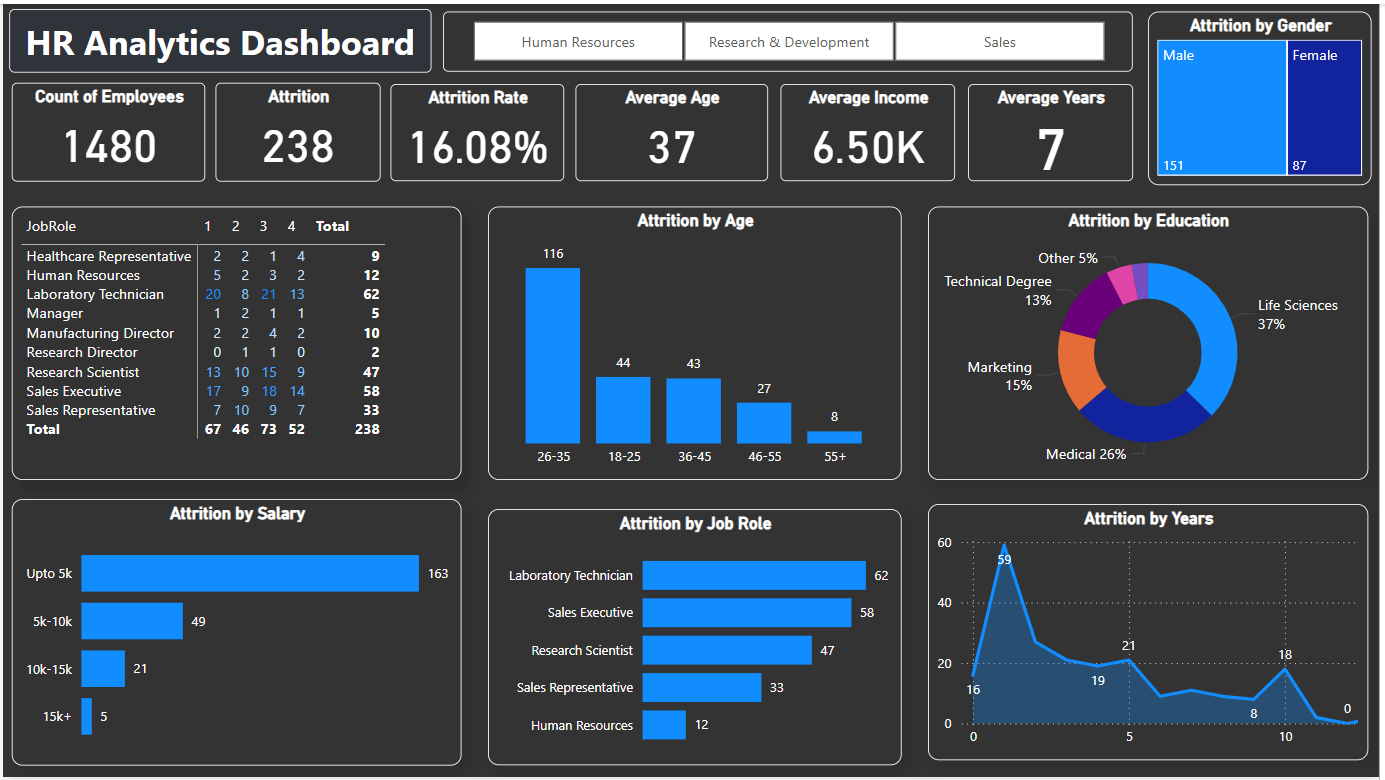

The page's visual inventory and layout, read from the dashboard file:
{"tool":"powerbi","page":{"name":"Page 1","canvas":[1280,720],"ordinal":0},"visuals":[{"type":"card","title":"Count of Employees","fields":{"Values":["HR_Analytics.CountOfEmpID"]},"box":[8.1,73.3,180.2,91.9],"z":0},{"type":"card","title":"Attrition","fields":{"Values":["HR_Analytics.TotalAttritionCount"]},"box":[197.7,73.3,153.5,91.9],"z":1000},{"type":"card","title":"Attrition Rate","fields":{"Values":["HR_Analytics.AttritionRate"]},"box":[360.5,74.4,161.6,90.7],"z":2000},{"type":"card","title":"Average Age","fields":{"Values":["HR_Analytics.AvgAge"]},"box":[532.6,74.4,179.1,90.7],"z":3000},{"type":"card","title":"Average Income","fields":{"Values":["HR_Analytics.AvgIncome"]},"box":[723.3,74.4,162.8,90.7],"z":4000},{"type":"card","title":"Average Years","fields":{"Values":["HR_Analytics.AvgYearsAtCompany"]},"box":[897.7,74.4,153.5,90.7],"z":5000},{"type":"treemap","title":"Attrition by Gender","fields":{"Group":["HR_Analytics.Gender"],"Values":["Sum(HR_Analytics.AttritionCount)"]},"box":[1065.1,7,208.1,161.6],"z":6000},{"type":"donutChart","title":"Attrition by Education","fields":{"Category":["HR_Analytics.EducationField"],"Y":["Sum(HR_Analytics.AttritionCount)"]},"box":[860.5,188.4,409.3,254.7],"z":7000},{"type":"textbox","box":[5.8,4.7,393,59.3],"z":7001},{"type":"columnChart","title":"Attrition by Age","fields":{"Category":["HR_Analytics.AgeGroup"],"Y":["Sum(HR_Analytics.AttritionCount)"]},"box":[451.2,188.4,384.9,254.7],"z":7002},{"type":"pivotTable","fields":{"Rows":["HR_Analytics.JobRole"],"Columns":["HR_Analytics.JobSatisfaction"],"Values":["Sum(HR_Analytics.AttritionCount)"]},"box":[8.1,188.4,418.6,254.7],"z":7003},{"type":"barChart","title":"Attrition by Salary","fields":{"Category":["HR_Analytics.SalarySlab"],"Y":["Sum(HR_Analytics.AttritionCount)"]},"box":[8.1,460.5,418.6,247.7],"z":7004},{"type":"areaChart","title":"Attrition by Years","fields":{"Category":["HR_Analytics.YearsAtCompany"],"Y":["Sum(HR_Analytics.AttritionCount)"]},"box":[860.5,465.1,409.3,238.4],"z":7005},{"type":"barChart","title":"Attrition by Job Role","fields":{"Category":["HR_Analytics.JobRole"],"Y":["Sum(HR_Analytics.AttritionCount)"]},"box":[451.2,469.8,384.9,238.4],"z":7006},{"type":"slicer","fields":{"Values":["HR_Analytics.Department"]},"box":[409.3,7,641.9,55.8],"z":7007}]}

Visuals, with their boxes in screenshot pixels (x1, y1, x2, y2), scaled from the page's 1280x720 canvas onto the 1385x780 screenshot:
"Count of Employees" card: box(9, 79, 204, 179)
"Attrition" card: box(214, 79, 380, 179)
"Attrition Rate" card: box(390, 81, 565, 179)
"Average Age" card: box(576, 81, 770, 179)
"Average Income" card: box(783, 81, 959, 179)
"Average Years" card: box(971, 81, 1137, 179)
"Attrition by Gender" treemap: box(1152, 8, 1378, 183)
"Attrition by Education" donutChart: box(931, 204, 1374, 480)
textbox: box(6, 5, 432, 69)
"Attrition by Age" columnChart: box(488, 204, 905, 480)
pivotTable - HR_Analytics.JobRole x HR_Analytics.JobSatisfaction: box(9, 204, 462, 480)
"Attrition by Salary" barChart: box(9, 499, 462, 767)
"Attrition by Years" areaChart: box(931, 504, 1374, 762)
"Attrition by Job Role" barChart: box(488, 509, 905, 767)
slicer - HR_Analytics.Department: box(443, 8, 1137, 68)
